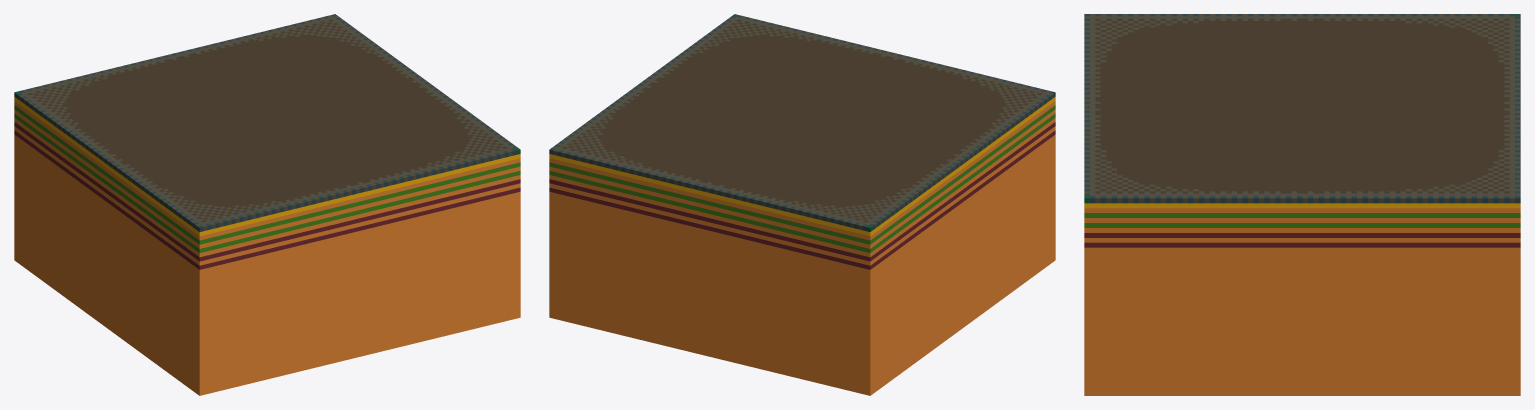
Rendered from mud_tile.obj.
The picture shows the model from 3 angles, left to right: view 1: azimuth 30°, elevation 25°; view 2: azimuth 150°, elevation 25°; view 3: azimuth 270°, elevation 25°; orthographic projection. The views are drawn at different scales.
Size of the model in its own units: 8 by 4 by 8.
1 material, 1 textured.
